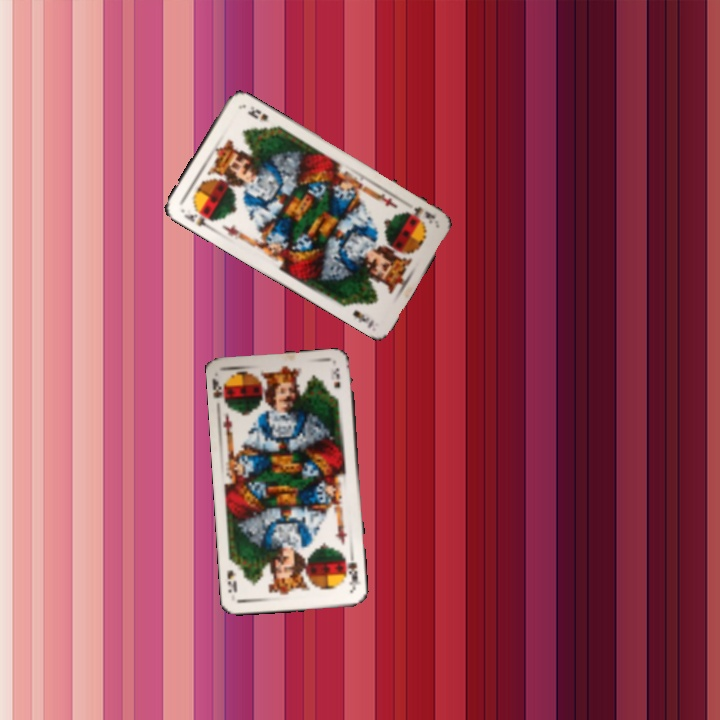SK: (177, 205, 216, 231), (341, 551, 363, 592), (402, 203, 438, 226), (209, 375, 231, 411)
